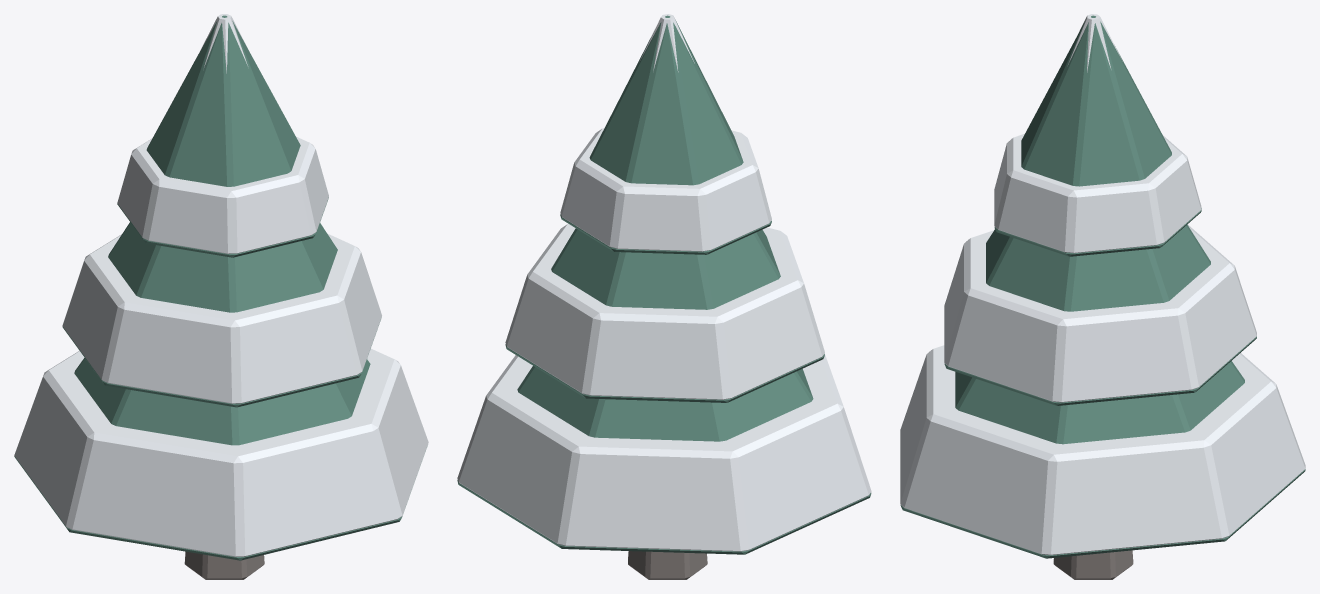
Rendered from pine_snow_medium.glb.
3 views of the same model, side by side, from view 1: azimuth 30°, elevation 25°; view 2: azimuth 150°, elevation 25°; view 3: azimuth 270°, elevation 25° (orthographic).
Parts seen in each view (by area): view 1: Snow1, Snow2, Foliage3, Snow3, Foliage2, Foliage1, Trunk, SnowCap; view 2: Snow1, Snow2, Foliage3, Snow3, Foliage2, Foliage1, Trunk, SnowCap; view 3: Snow1, Snow2, Foliage3, Snow3, Foliage2, Foliage1, Trunk, SnowCap.
Boxes of the visible parts, bbox=[...] form: Snow1: bbox=[14, 348, 428, 556]; Snow2: bbox=[62, 233, 381, 403]; Foliage3: bbox=[117, 15, 328, 257]; Snow3: bbox=[117, 136, 328, 253]; Foliage2: bbox=[62, 222, 380, 407]; Foliage1: bbox=[14, 358, 427, 560]; Trunk: bbox=[184, 551, 264, 579]; SnowCap: bbox=[196, 14, 248, 73]; Snow1: bbox=[457, 355, 871, 551]; Snow2: bbox=[505, 224, 824, 399]; Foliage3: bbox=[560, 15, 771, 254]; Snow3: bbox=[560, 128, 771, 251]; Foliage2: bbox=[505, 228, 824, 402]; Foliage1: bbox=[457, 366, 871, 554]; Trunk: bbox=[628, 551, 707, 579]; SnowCap: bbox=[640, 14, 694, 72]; Snow1: bbox=[900, 345, 1305, 555]; Snow2: bbox=[944, 224, 1256, 402]; Foliage3: bbox=[994, 15, 1201, 256]; Snow3: bbox=[994, 133, 1201, 253]; Foliage2: bbox=[944, 224, 1256, 405]; Foliage1: bbox=[900, 361, 1305, 558]; Trunk: bbox=[1053, 550, 1133, 579]; SnowCap: bbox=[1067, 14, 1122, 72].
Bounding box in the file's own units: 1.19 × 1.74 × 1.16.
